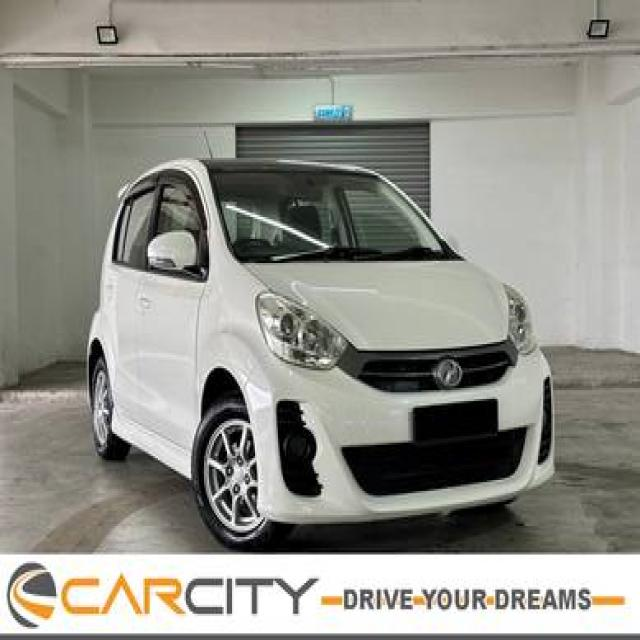PeroduaMyvi: (84, 151, 556, 548)
